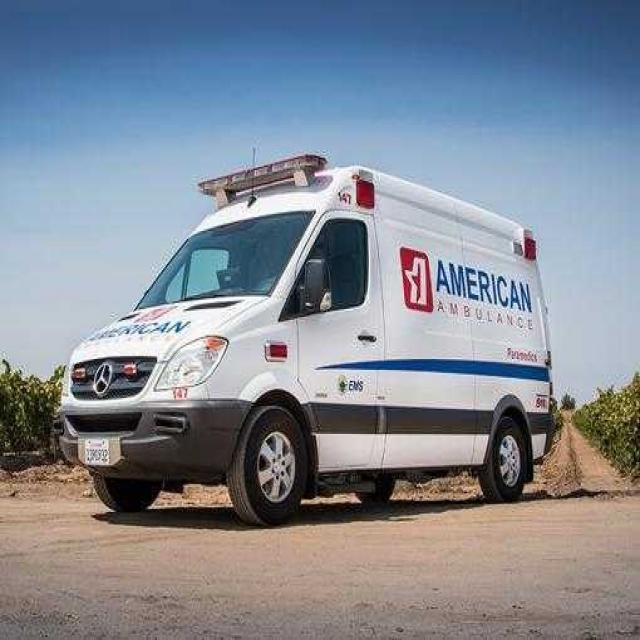emergency-vehicle: (42, 148, 562, 538)
